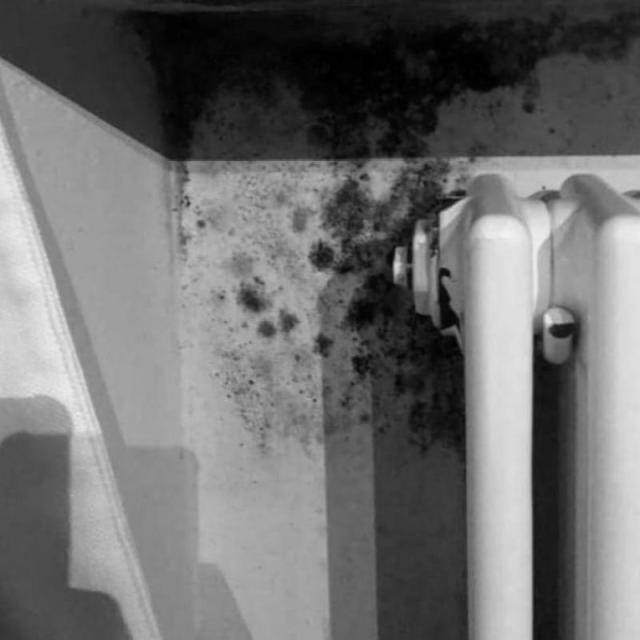stain marks: (85, 5, 637, 481)
